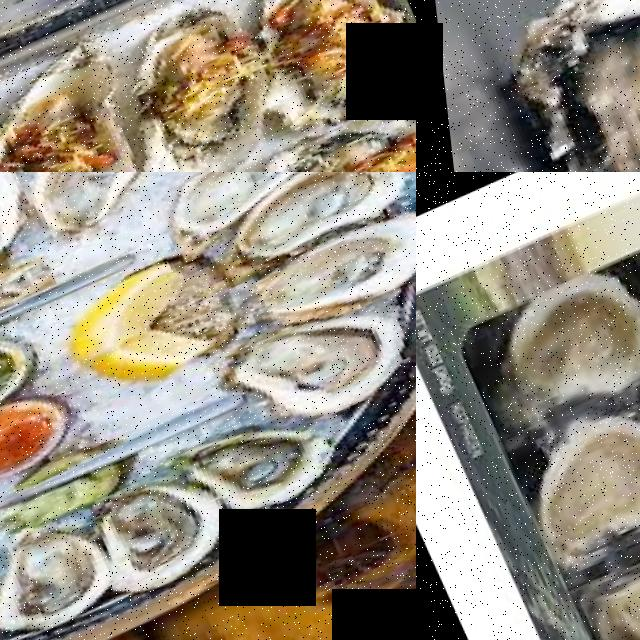lemon: (42, 266, 194, 371), (83, 318, 208, 406)
oysters: (89, 0, 298, 172), (462, 248, 640, 442), (460, 0, 640, 172), (224, 0, 416, 156), (485, 392, 640, 585), (225, 208, 416, 351), (234, 301, 416, 448), (0, 0, 233, 93), (0, 39, 160, 172), (85, 468, 240, 605), (222, 172, 415, 274), (186, 416, 335, 536), (0, 509, 113, 640), (140, 172, 346, 239), (249, 95, 416, 172), (14, 172, 184, 246), (558, 534, 640, 640), (0, 172, 44, 295)
